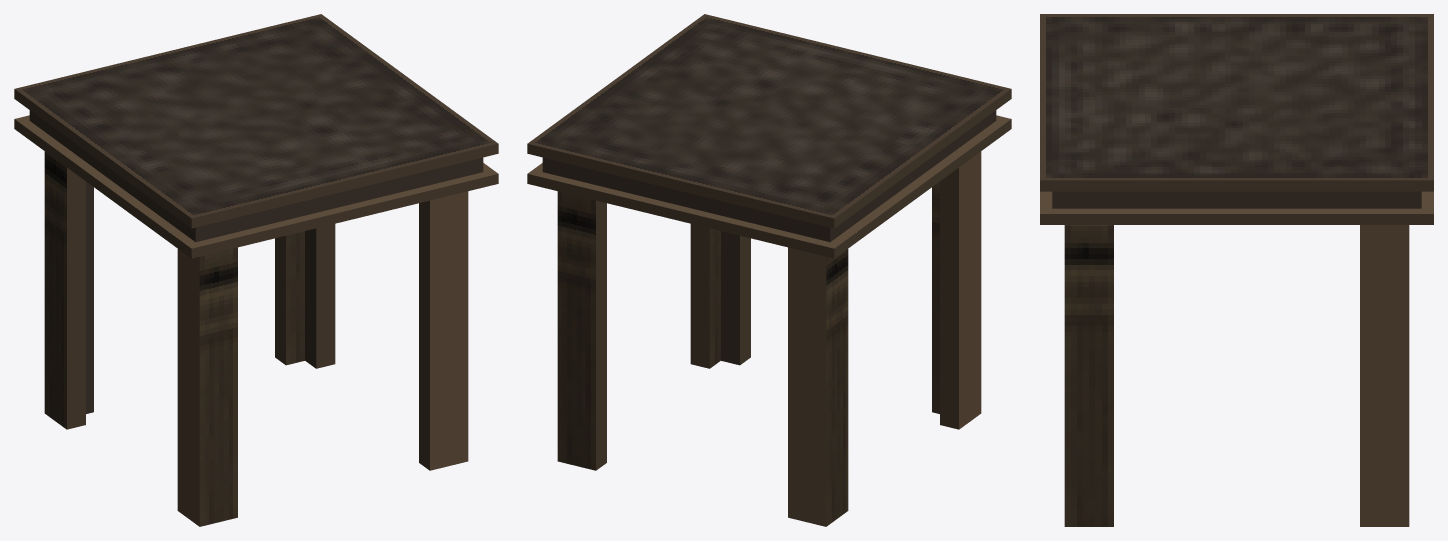
Rendered from table_oak.gltf.
3 views of the same model, side by side, from view 1: azimuth 30°, elevation 25°; view 2: azimuth 150°, elevation 25°; view 3: azimuth 270°, elevation 25° (orthographic). The views are drawn at different scales.
Parts seen in each view (by area): view 1: cube (×11); view 2: cube (×10); view 3: cube (×6).
Part boxes in pixels (x1,y1,x2,y2): cube (×11): (14,14,498,526); cube (×10): (527,14,1011,526); cube (×6): (1040,14,1433,526).
Size of the model in its own units: 1 by 1 by 1.
1 material, 1 textured.
